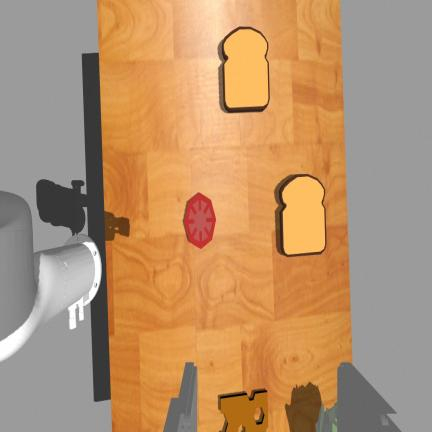cheese: (219, 390, 268, 431)
lettuce: (316, 403, 337, 431)
sliced_bread: (223, 27, 269, 112), (280, 175, 326, 256)
sliced_tomato: (185, 193, 215, 248)
